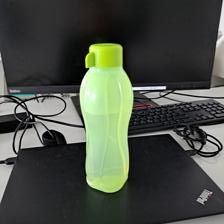bottle: (78, 42, 133, 194)
